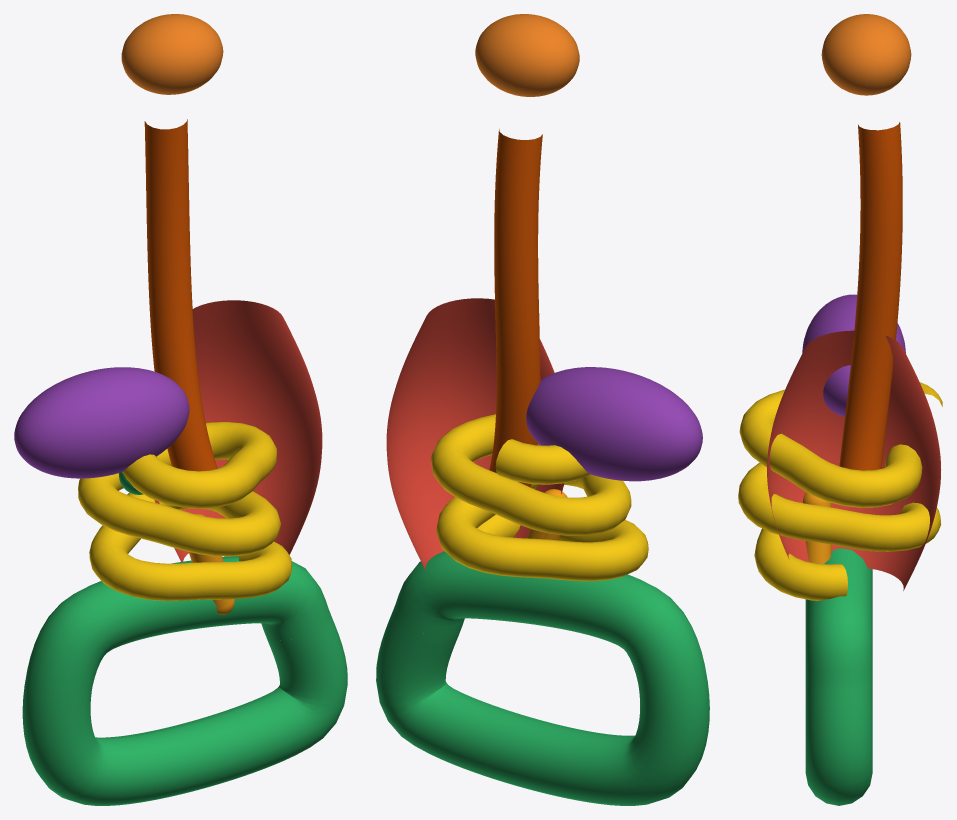
File: digestive.glb
The picture shows the model from 3 angles, left to right: view 1: azimuth 30°, elevation 25°; view 2: azimuth 150°, elevation 25°; view 3: azimuth 270°, elevation 25°; orthographic projection. The views are drawn at different scales.
Visible parts, largest first — view 1: LargeIntestine, SmallIntestine, Stomach, Liver, Esophagus, MouthPharynx; view 2: LargeIntestine, SmallIntestine, Stomach, Liver, Esophagus, MouthPharynx; view 3: SmallIntestine, Stomach, LargeIntestine, Esophagus, MouthPharynx, Liver, Pancreas.
Boxes of the visible parts, x1,y1,x2,y2 form: LargeIntestine: (22,556,347,805); SmallIntestine: (78,422,292,600); Stomach: (154,300,322,561); Liver: (14,367,189,478); Esophagus: (144,119,217,471); MouthPharynx: (121,14,223,94); LargeIntestine: (376,551,709,805); SmallIntestine: (431,414,648,581); Stomach: (386,298,564,570); Liver: (526,367,702,481); Esophagus: (489,129,542,487); MouthPharynx: (475,14,579,96); SmallIntestine: (738,382,942,600); Stomach: (767,330,940,590); LargeIntestine: (805,548,872,805); Esophagus: (839,122,902,470); MouthPharynx: (821,14,911,95); Liver: (802,294,905,416); Pancreas: (803,492,831,563).
Bounding box in the file's own units: 1.44 × 3.3 × 0.8217.
